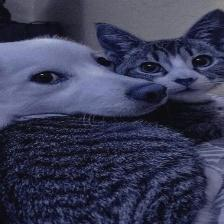kedo: (98, 8, 224, 106)
